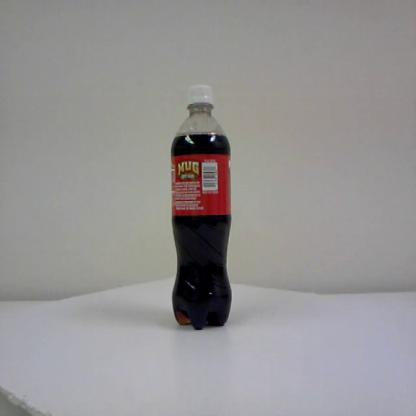bottle: (169, 81, 233, 332)
